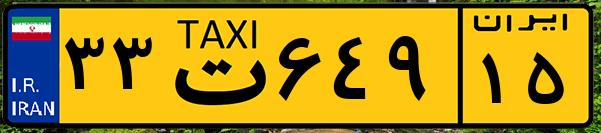1: (475, 38, 525, 113)
3: (57, 26, 110, 100), (110, 28, 158, 98)
4: (330, 28, 385, 110)
5: (525, 38, 570, 115)
6: (270, 28, 330, 110)
9: (385, 28, 445, 110)
ت: (158, 12, 270, 120)
